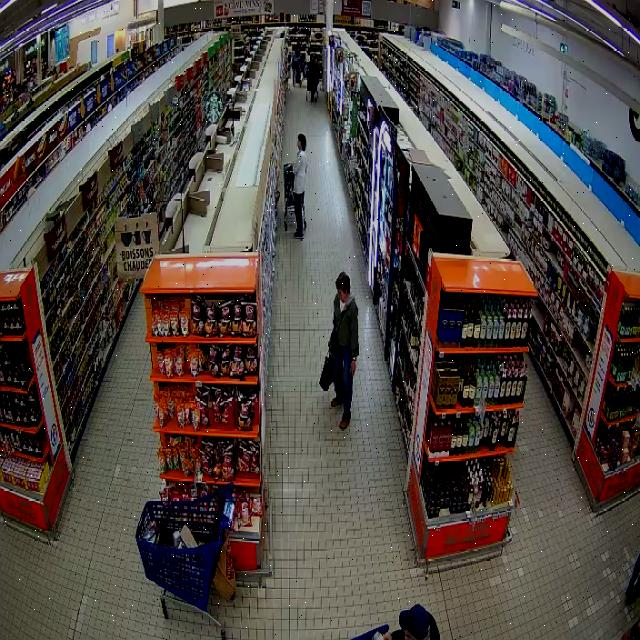bags: (327, 310, 347, 356), (319, 354, 332, 390)
hands: (351, 358, 355, 374)
person: (328, 272, 359, 429), (293, 133, 307, 238)
